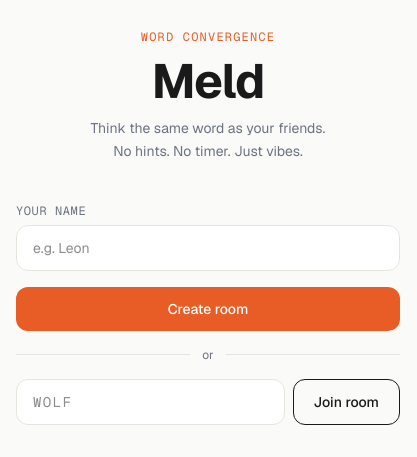
Test: Home › Create room › shows an error when creating without a name
This screenshot has width=417, height=457.
Click the button "Create room". click: {"x": 208, "y": 309}
box: [16,287,400,331]
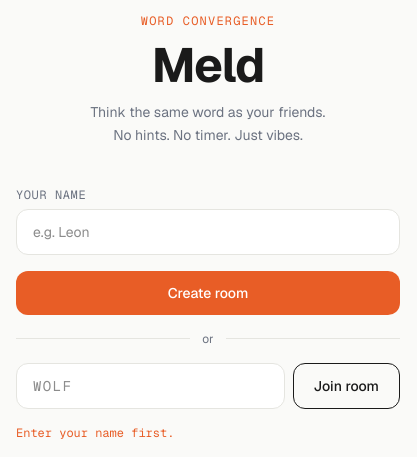
Result: the text "Enter your name first." is shown at [16,425,174,441]
